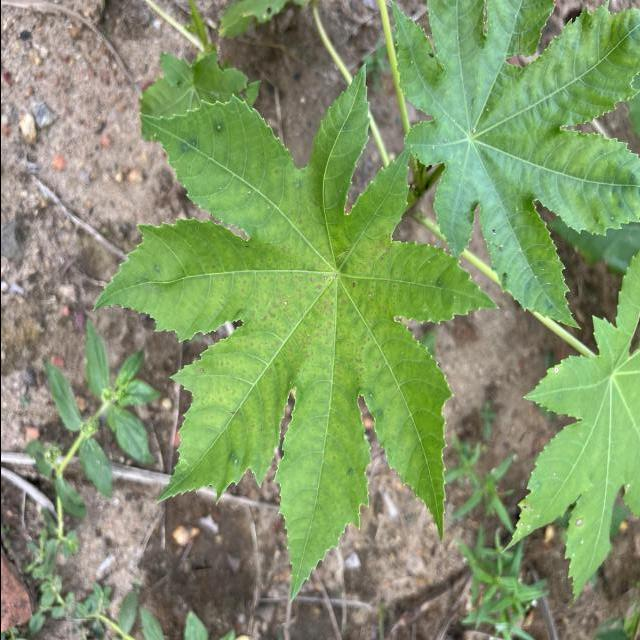Ricinus communis linn: (86, 57, 506, 614), (384, 0, 640, 333)
